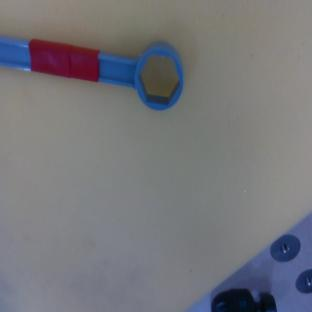part_3_good: (0, 36, 185, 110)
